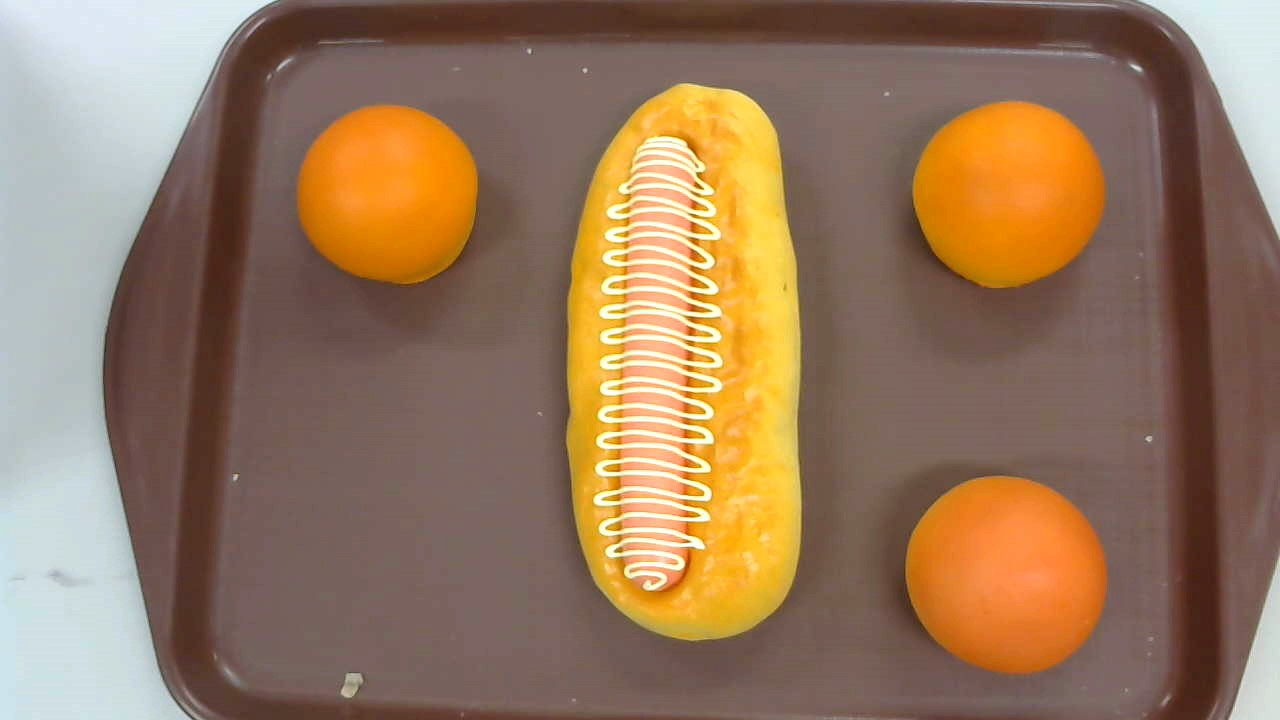bun: (905, 474, 1108, 676), (911, 98, 1106, 290), (297, 102, 478, 285)
hot dog: (566, 81, 803, 641)
